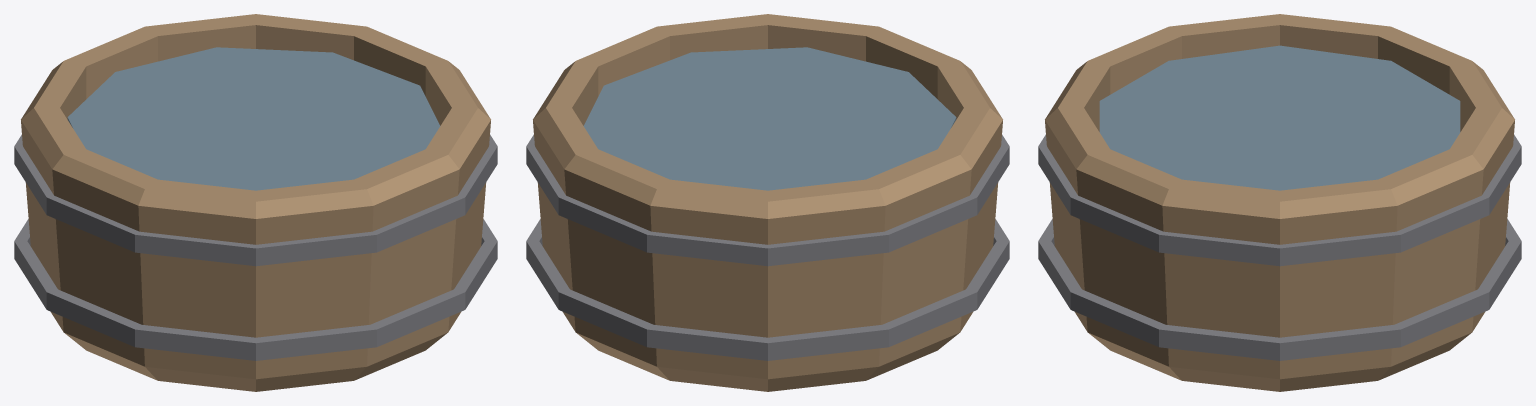
Rendered from prop-watering-tub-wood.fbx.
3 views of the same model, side by side, from view 1: azimuth 30°, elevation 25°; view 2: azimuth 150°, elevation 25°; view 3: azimuth 270°, elevation 25° (orthographic).
Parts seen in each view (by area): view 1: prop-watering-tub-wood; view 2: prop-watering-tub-wood; view 3: prop-watering-tub-wood.
Part boxes in pixels (x1,y1,x2,y2): prop-watering-tub-wood: [14, 14, 497, 391]; prop-watering-tub-wood: [526, 14, 1009, 391]; prop-watering-tub-wood: [1038, 14, 1521, 391].
Size of the model in its own units: 0.74 by 0.34 by 0.74.
